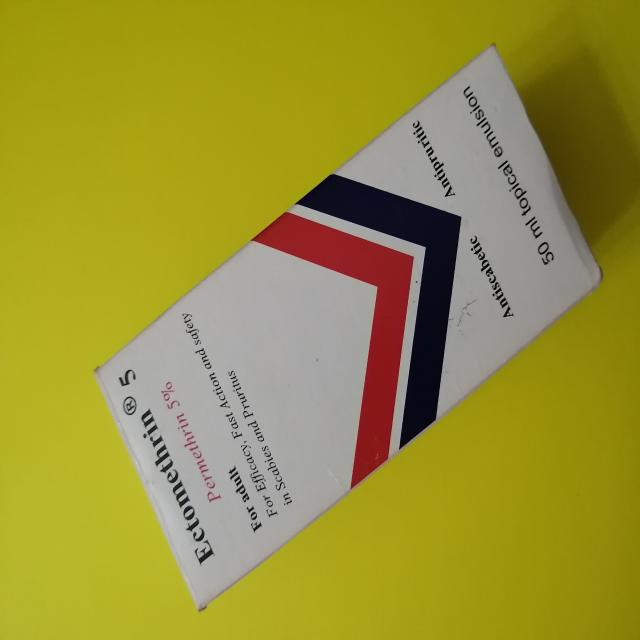medicine_packaging: (77, 35, 623, 621)
